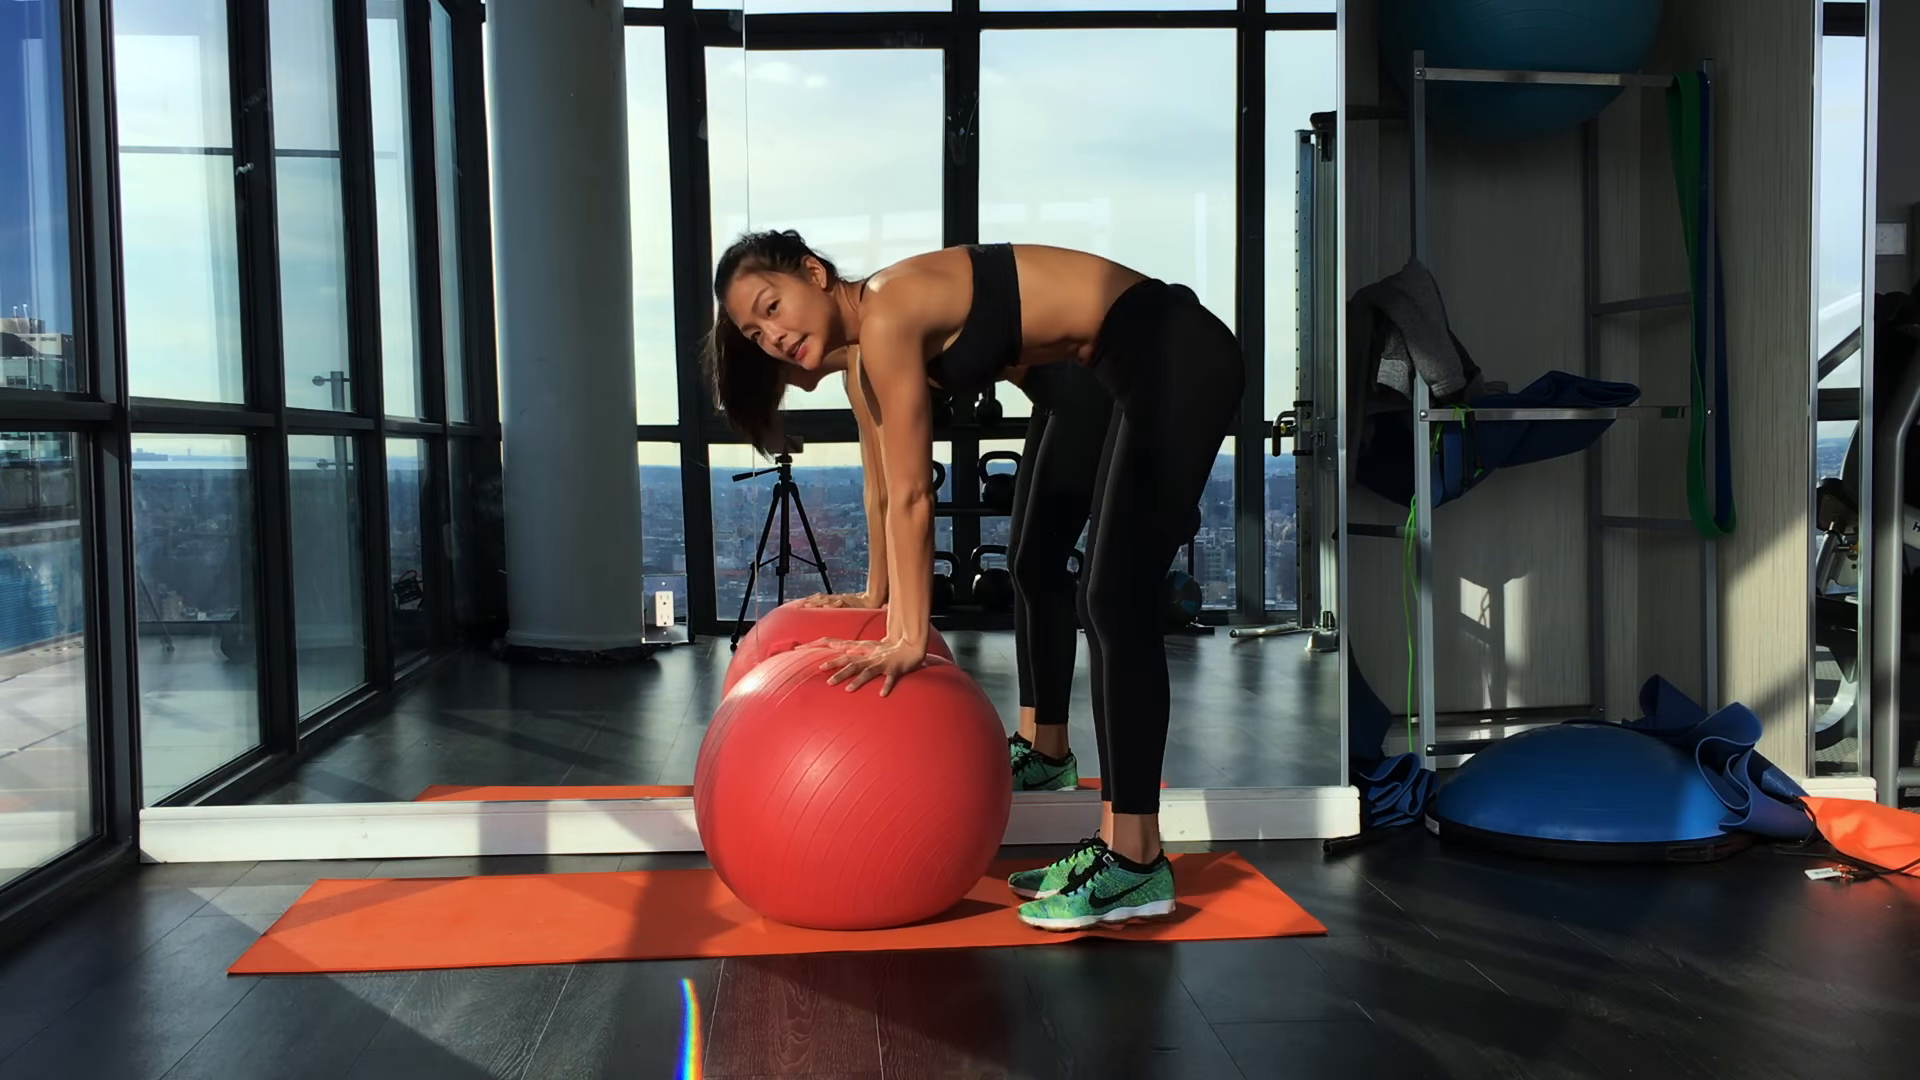yogaball: (687, 638, 1027, 945)
